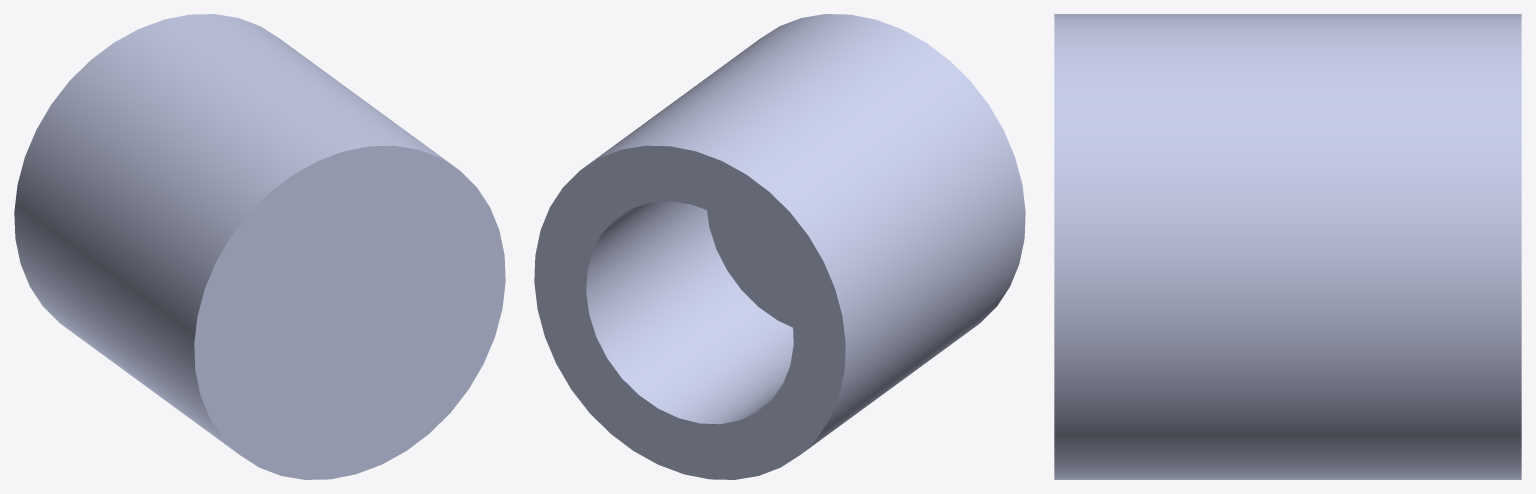
Rendered from sleeve.fbx.
The picture shows the model from 3 angles, left to right: view 1: azimuth 30°, elevation 25°; view 2: azimuth 150°, elevation 25°; view 3: azimuth 270°, elevation 25°; orthographic projection. The views are drawn at different scales.
Parts seen in each view (by area): view 1: 切除-拉伸1; view 2: 切除-拉伸1; view 3: 切除-拉伸1.
Boxes of the visible parts, bbox=[...] form: 切除-拉伸1: bbox=[14, 14, 505, 479]; 切除-拉伸1: bbox=[534, 14, 1025, 479]; 切除-拉伸1: bbox=[1054, 14, 1521, 479].
Bounding box in the file's own units: 0.354 × 0.3541 × 0.3543.
